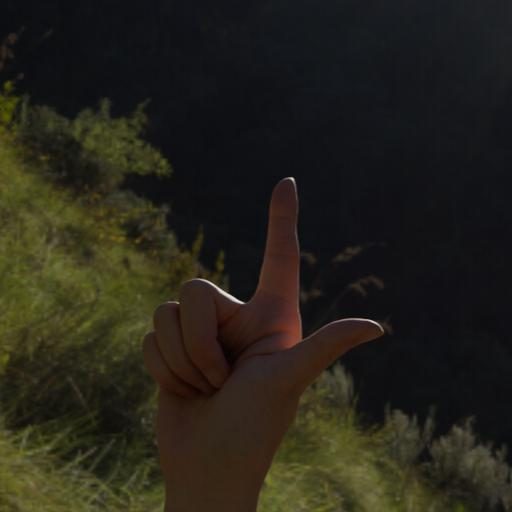L: (121, 171, 399, 512)
